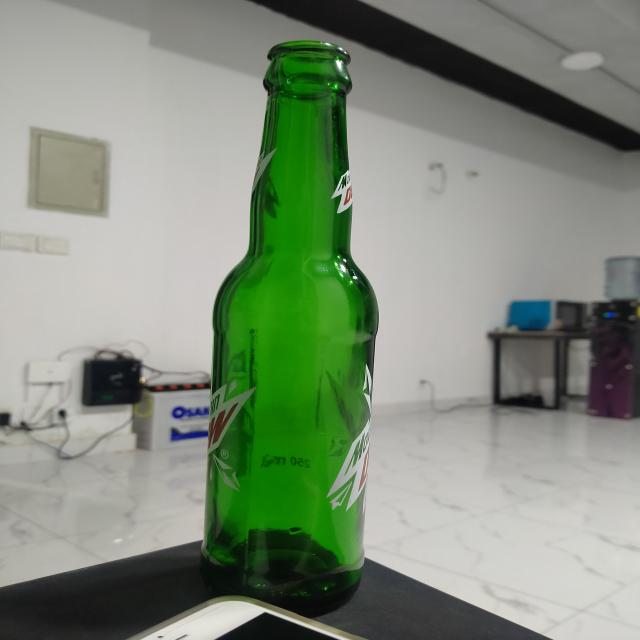bottle-glass: (199, 36, 387, 620)
